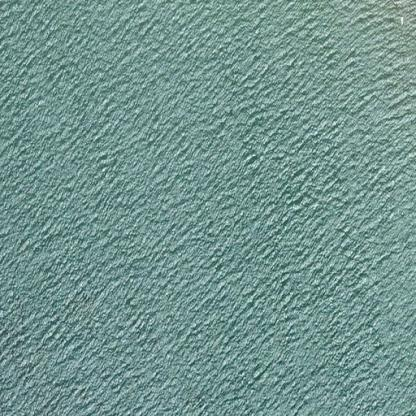ship: (398, 0, 404, 9)
